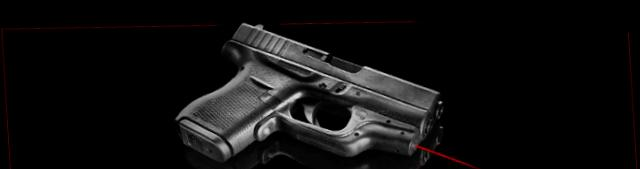pistol: (165, 7, 449, 169)
